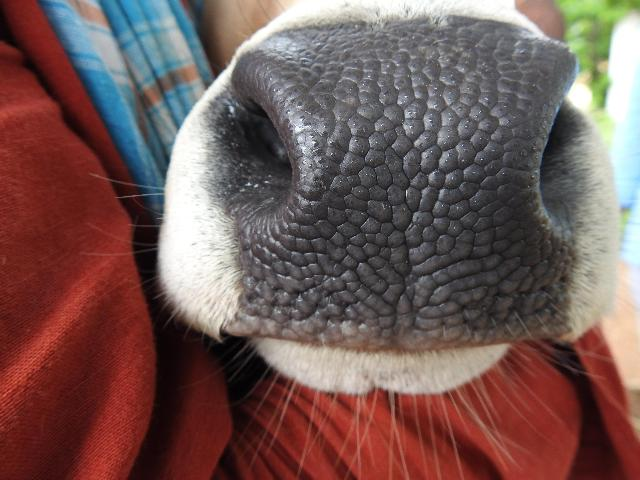Muzzle: (278, 37, 544, 331)
